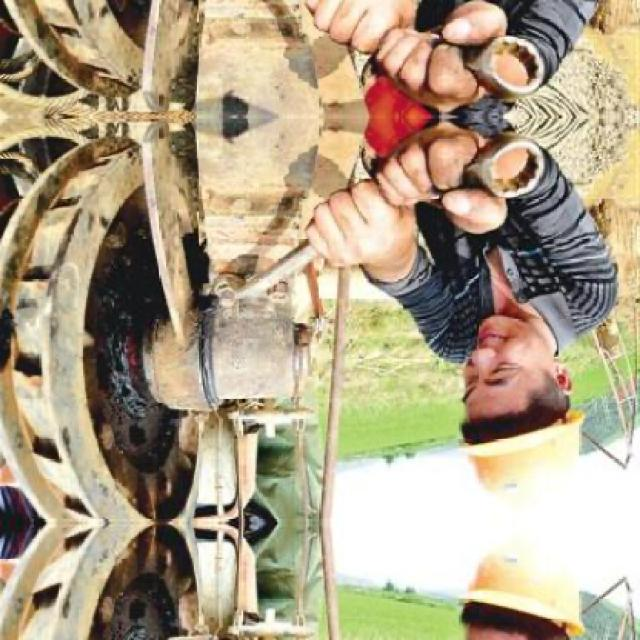con casco: (360, 285, 640, 505)
